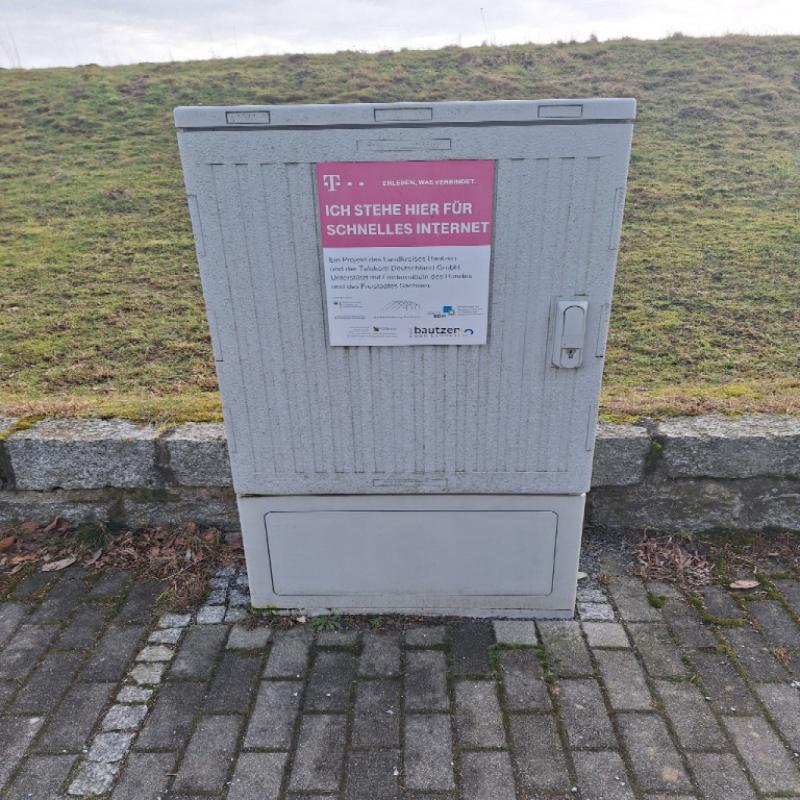NT-Gehause: (164, 95, 640, 617)
Steaker: (313, 163, 492, 341)
